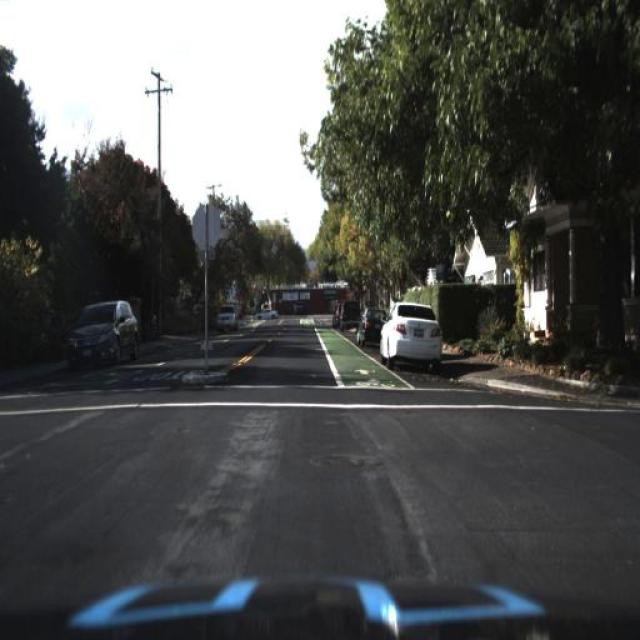car: (66, 292, 138, 362), (378, 298, 446, 367), (354, 305, 384, 347), (216, 300, 240, 330)
